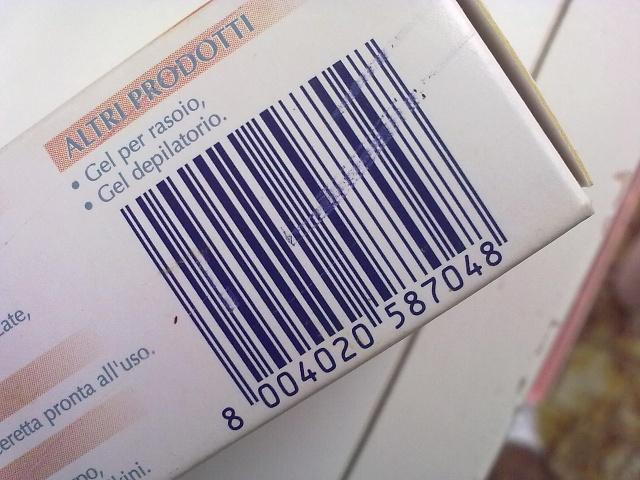Barcode: (114, 37, 513, 440)
